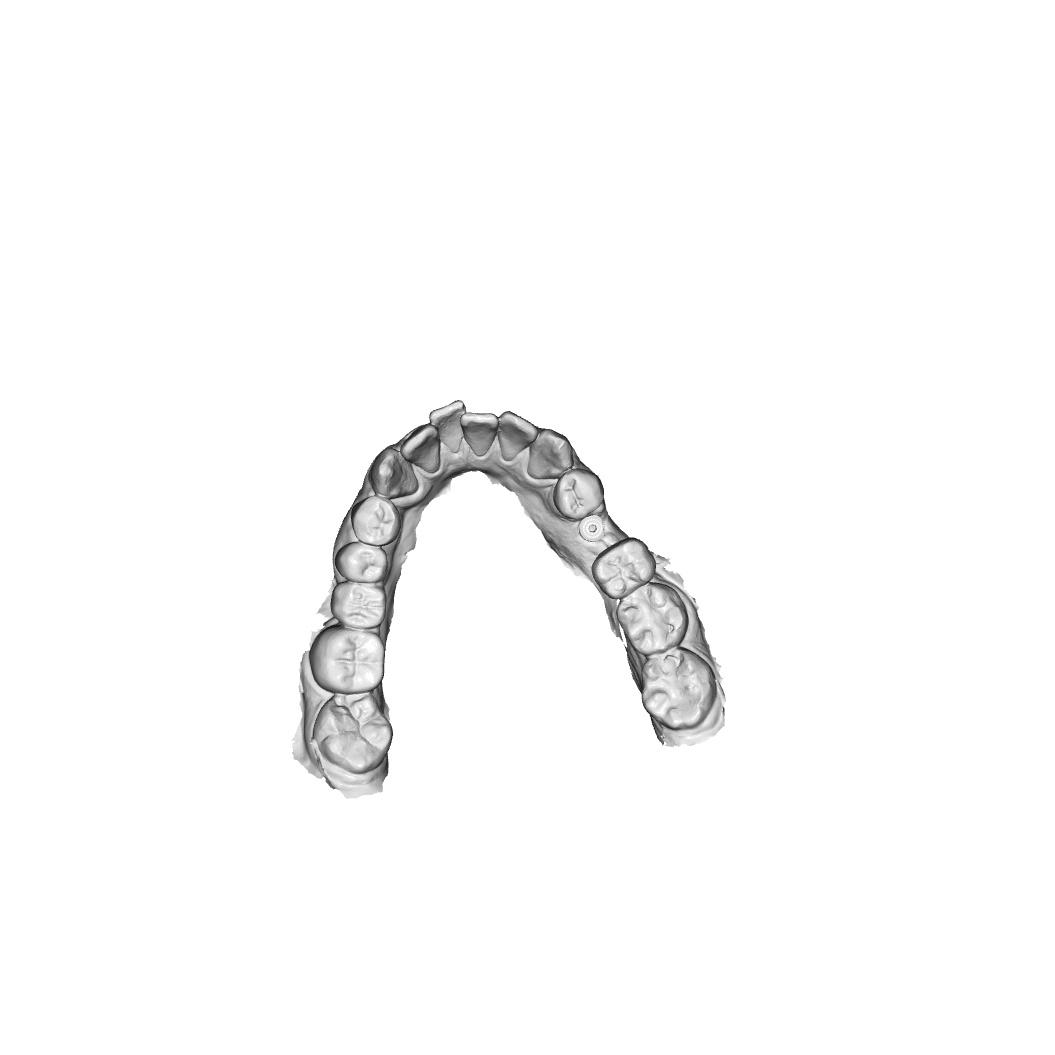canine: (369, 447, 421, 500), (526, 428, 575, 481)
implant: (577, 514, 607, 543)
incisor: (399, 422, 443, 474), (497, 410, 539, 463), (428, 399, 467, 455), (460, 411, 500, 458)
molar: (310, 692, 395, 775), (639, 648, 718, 732), (615, 581, 691, 655), (308, 624, 386, 695), (589, 536, 658, 601), (330, 581, 388, 630)
premolar: (553, 467, 606, 522), (350, 495, 403, 546), (334, 540, 390, 584)
